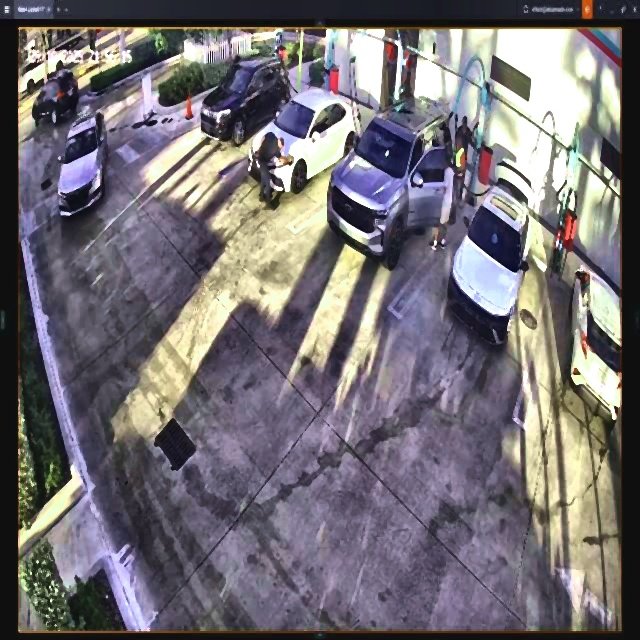Car: (330, 95, 458, 266), (449, 164, 534, 346), (249, 92, 358, 190)
